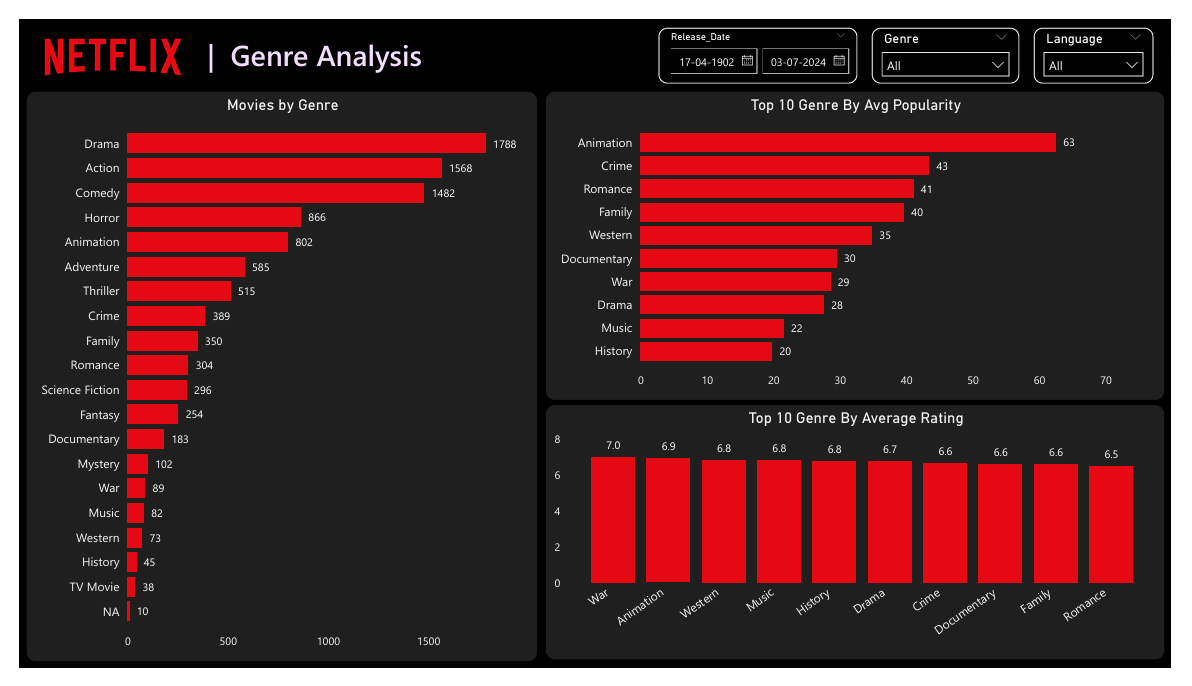

What the dashboard file says about the page in this screenshot:
{"tool":"powerbi","page":{"name":"Genre Analysis","canvas":[1280,720],"ordinal":2},"visuals":[{"type":"columnChart","title":"Top 10 Genre By Average Rating","fields":{"Category":["Netflix_dataset.Genre"],"Y":["Measures (3).Average Rating"]},"box":[585,428.3,686.7,282],"z":0},{"type":"image","box":[3.3,13.3,201.7,60],"z":1000},{"type":"textbox","box":[203.3,11.7,338.3,55],"z":2000},{"type":"barChart","fields":{"Category":["Netflix_dataset.Genre"],"Y":["Measures (3).Total Movies"]},"box":[8.3,80,566.7,631.7],"z":3000},{"type":"barChart","title":"Top 10 Genre By Avg Popularity","fields":{"Category":["Netflix_dataset.Genre"],"Y":["Measures (3).Average Popularity"]},"box":[585,80,686.7,341.7],"z":4001},{"type":"slicer","fields":{"Values":["Netflix_dataset.Release_Date"]},"box":[710,8.6,221.4,62.9],"z":4002},{"type":"slicer","fields":{"Values":["Netflix_dataset.Genre"]},"box":[947.1,8.6,164.3,62],"z":4003},{"type":"slicer","fields":{"Values":["Netflix_dataset.Original_Language"]},"box":[1127.1,8.6,132.9,62.9],"z":4004}]}

Visuals, with their boxes in screenshot pixels (x1, y1, x2, y2), scaled from the page's 1280x720 canvas onto the 1192x686 screenshot:
"Top 10 Genre By Average Rating" columnChart: x1=545 y1=408 x2=1184 y2=677
image: x1=3 y1=13 x2=191 y2=70
textbox: x1=189 y1=11 x2=504 y2=64
barChart - Netflix_dataset.Genre x Measures (3).Total Movies: x1=8 y1=76 x2=535 y2=678
"Top 10 Genre By Avg Popularity" barChart: x1=545 y1=76 x2=1184 y2=402
slicer - Netflix_dataset.Release_Date: x1=661 y1=8 x2=867 y2=68
slicer - Netflix_dataset.Genre: x1=882 y1=8 x2=1035 y2=67
slicer - Netflix_dataset.Original_Language: x1=1050 y1=8 x2=1173 y2=68
